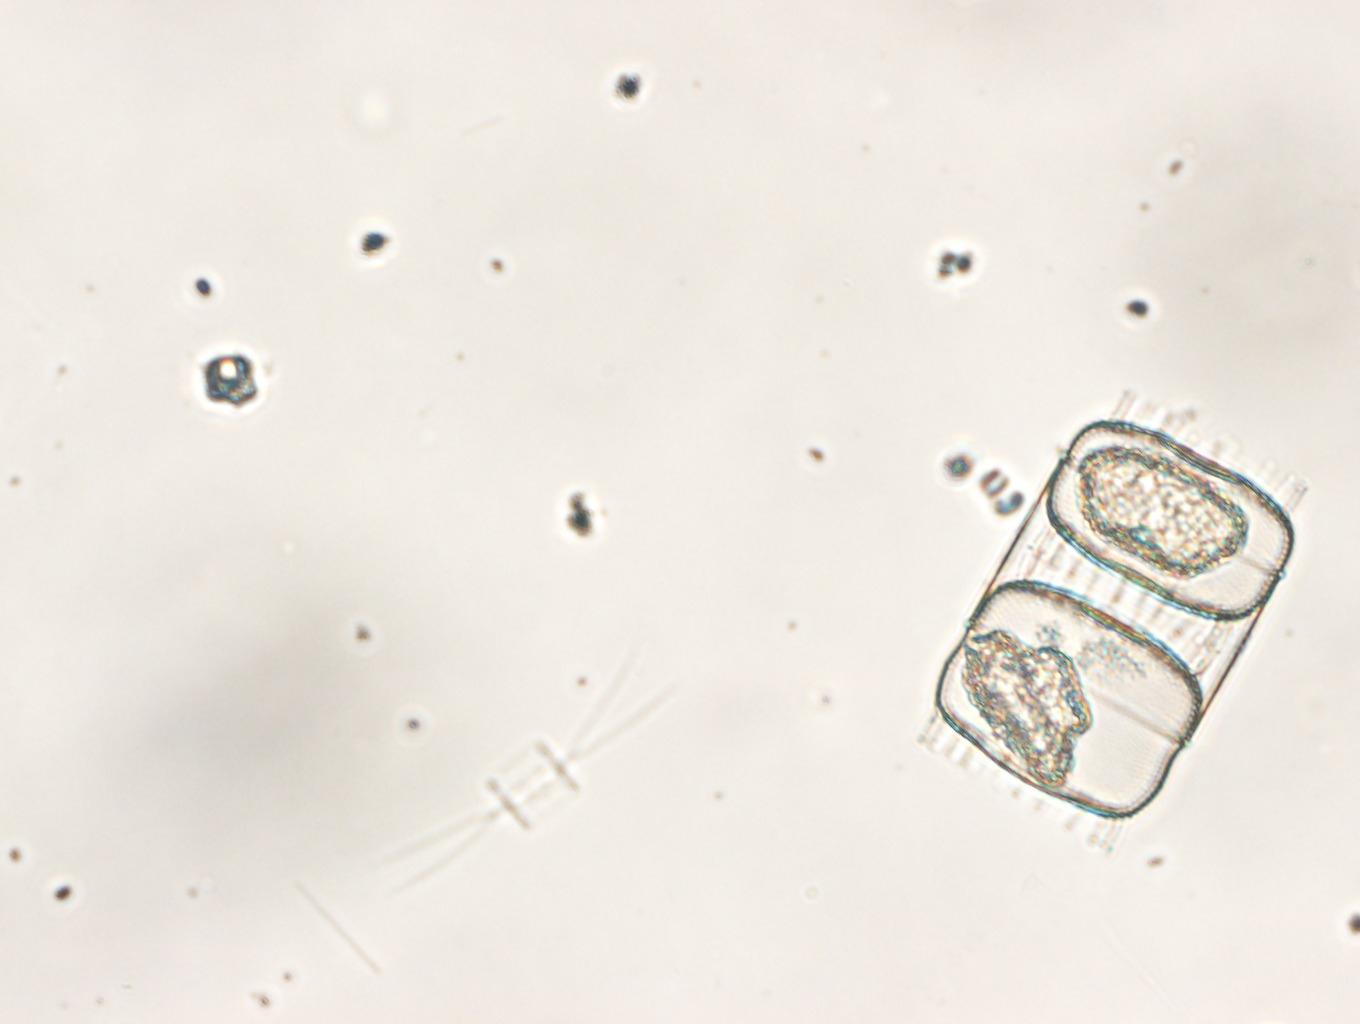chaetoceros: (369, 639, 681, 895)
corethron: (920, 390, 1309, 855)
